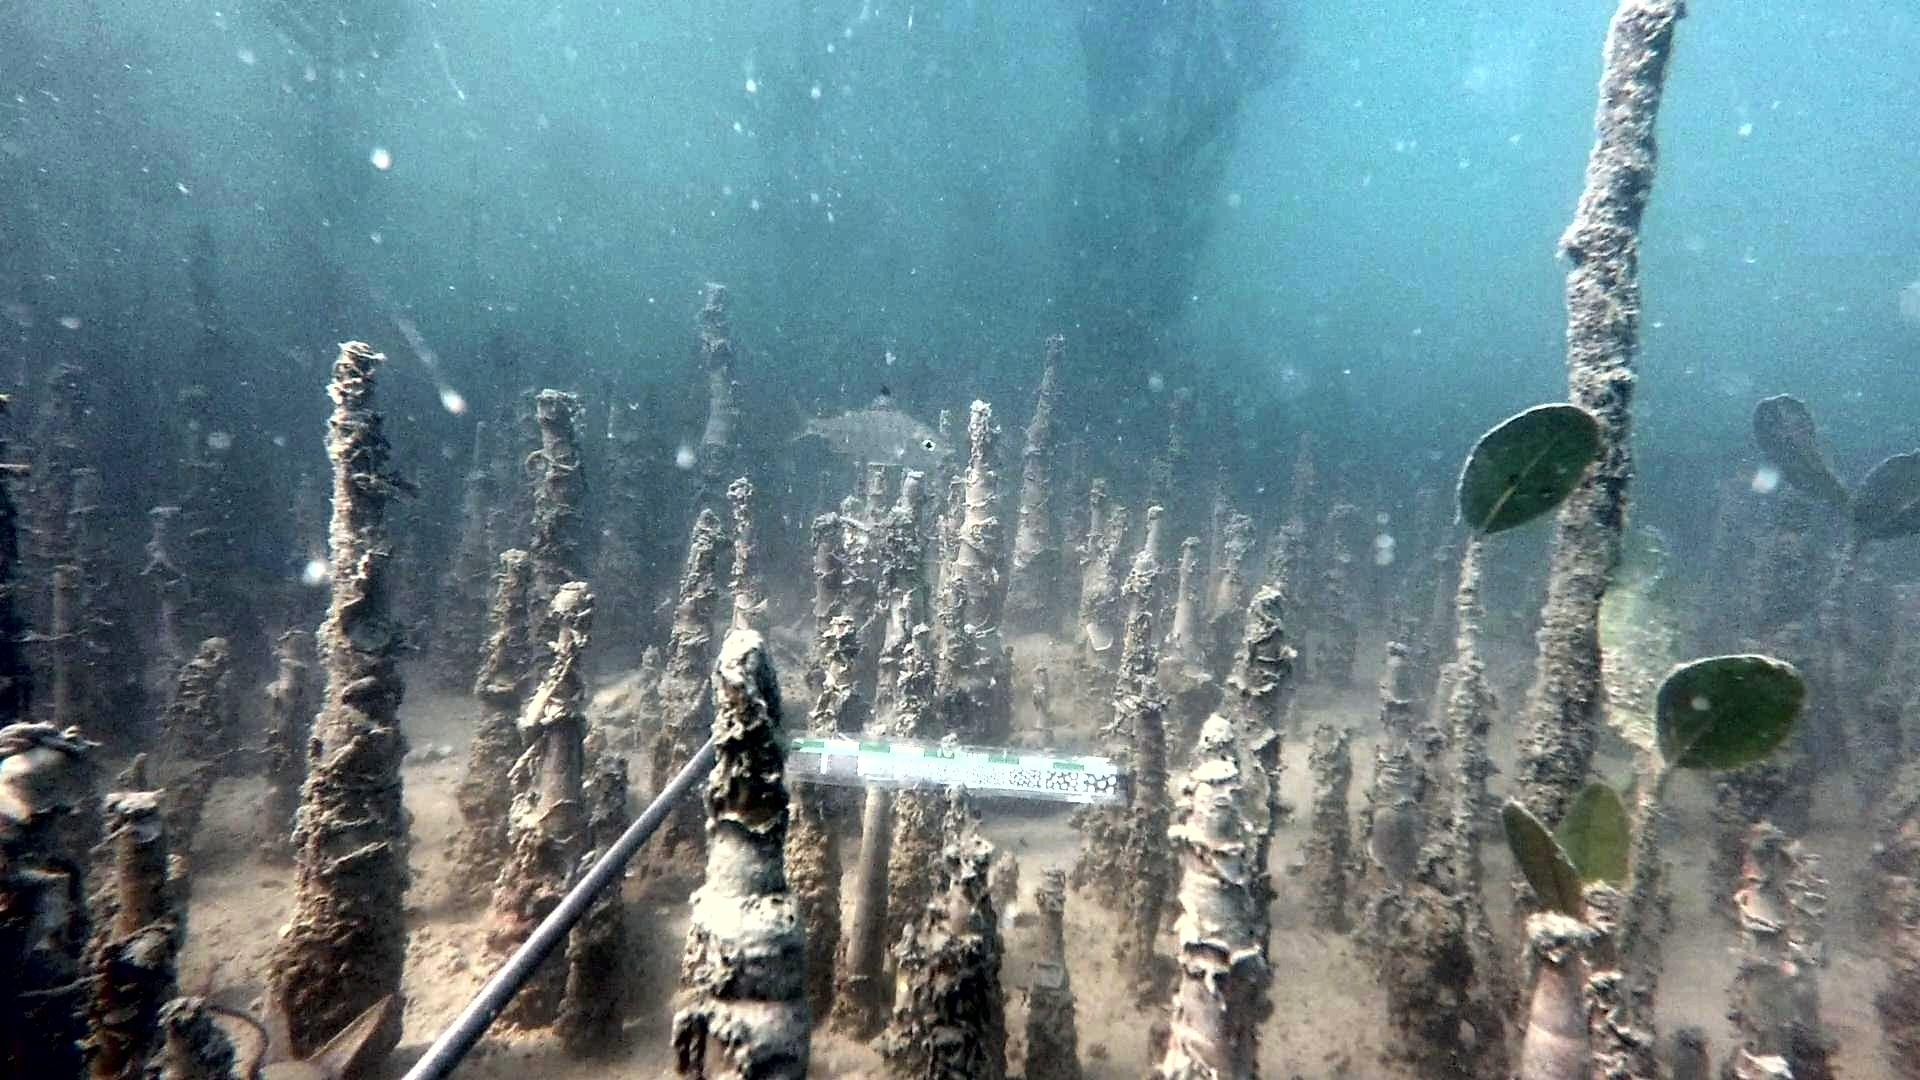gerres: (785, 382, 950, 471)
